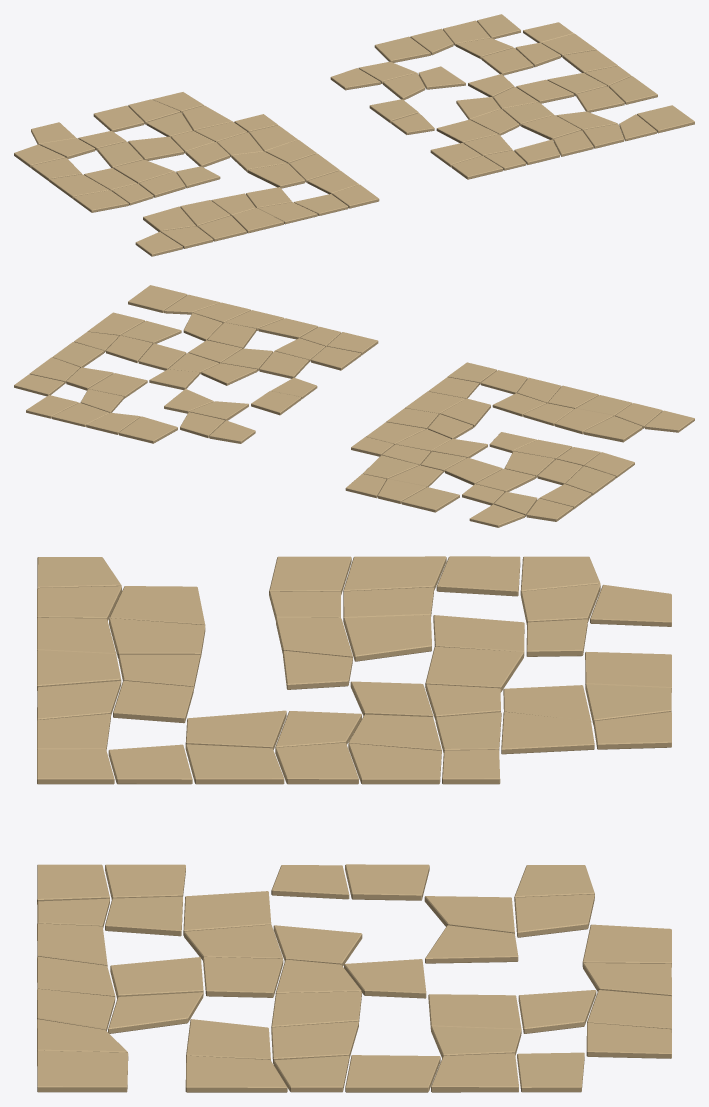
The model's file is Floor2_ArenaStone.fbx.
3 renders of one model, top to bottom at view 1: azimuth 30°, elevation 25°; view 2: azimuth 150°, elevation 25°; view 3: azimuth 270°, elevation 25°, orthographic. The views are drawn at different scales.
Parts seen in each view (by area): view 1: Arena1-1_0_0.001; view 2: Arena1-1_0_0.001; view 3: Arena1-1_0_0.001.
Boxes of the visible parts, <box> form: Arena1-1_0_0.001: <box>14,14,694,256</box>; Arena1-1_0_0.001: <box>14,285,694,527</box>; Arena1-1_0_0.001: <box>37,556,671,1092</box>.
Size of the model in its own units: 14980 by 88.48 by 7580.
